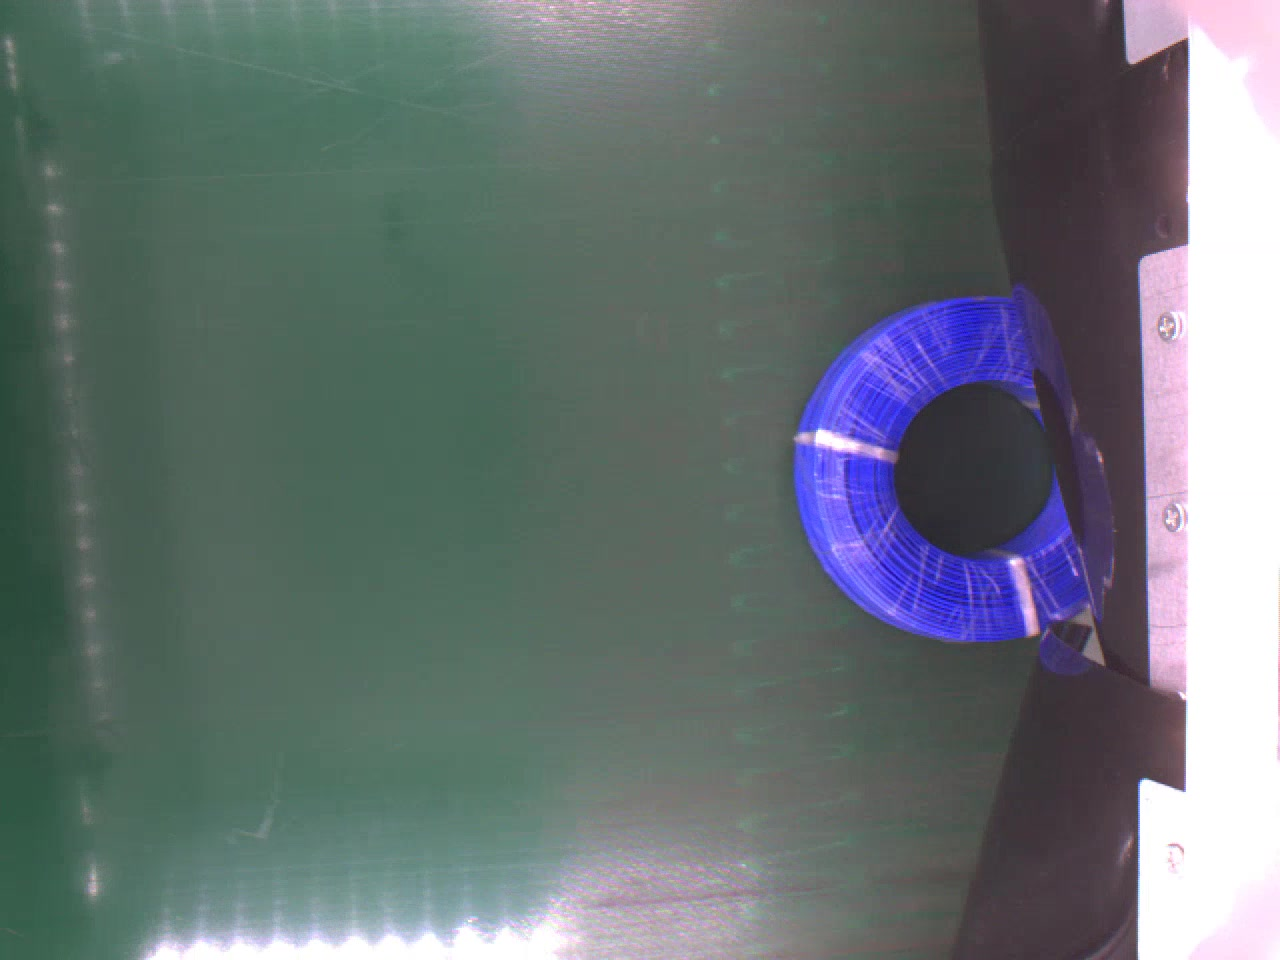blue: (795, 290, 1087, 639)
